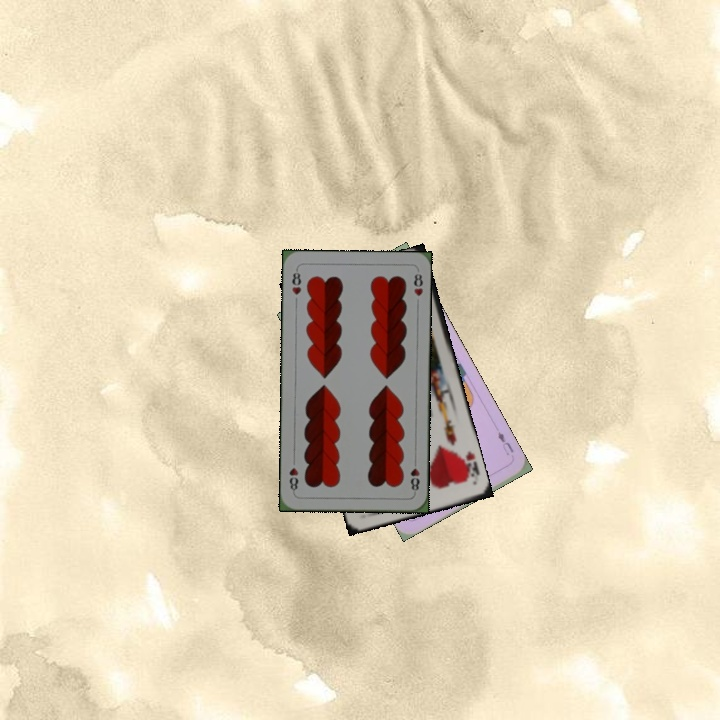EU: (493, 428, 516, 458)
H8: (407, 455, 422, 496), (288, 265, 304, 297)
HK: (456, 447, 482, 483)
